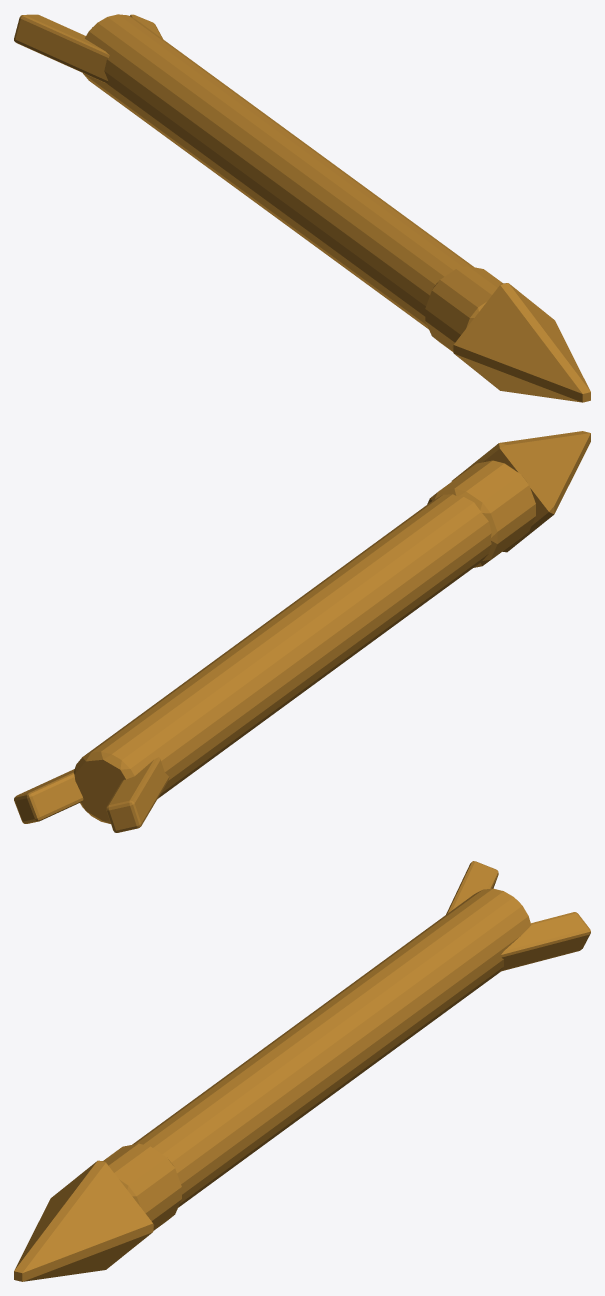
The model's file is AuxiliaBrokenBolt.fbx.
3 views of the same model, one above another, from view 1: azimuth 30°, elevation 25°; view 2: azimuth 150°, elevation 25°; view 3: azimuth 330°, elevation 25° (orthographic).
Parts seen in each view (by area): view 1: AuxiliaBrokenBolt_GameExport; view 2: AuxiliaBrokenBolt_GameExport; view 3: AuxiliaBrokenBolt_GameExport.
Boxes of the visible parts, box(x1,y1,x2,y2) form: AuxiliaBrokenBolt_GameExport: box(14, 14, 590, 402); AuxiliaBrokenBolt_GameExport: box(14, 431, 590, 832); AuxiliaBrokenBolt_GameExport: box(14, 861, 590, 1281).
Size of the model in its own units: 1.37 by 9.18 by 1.05.
